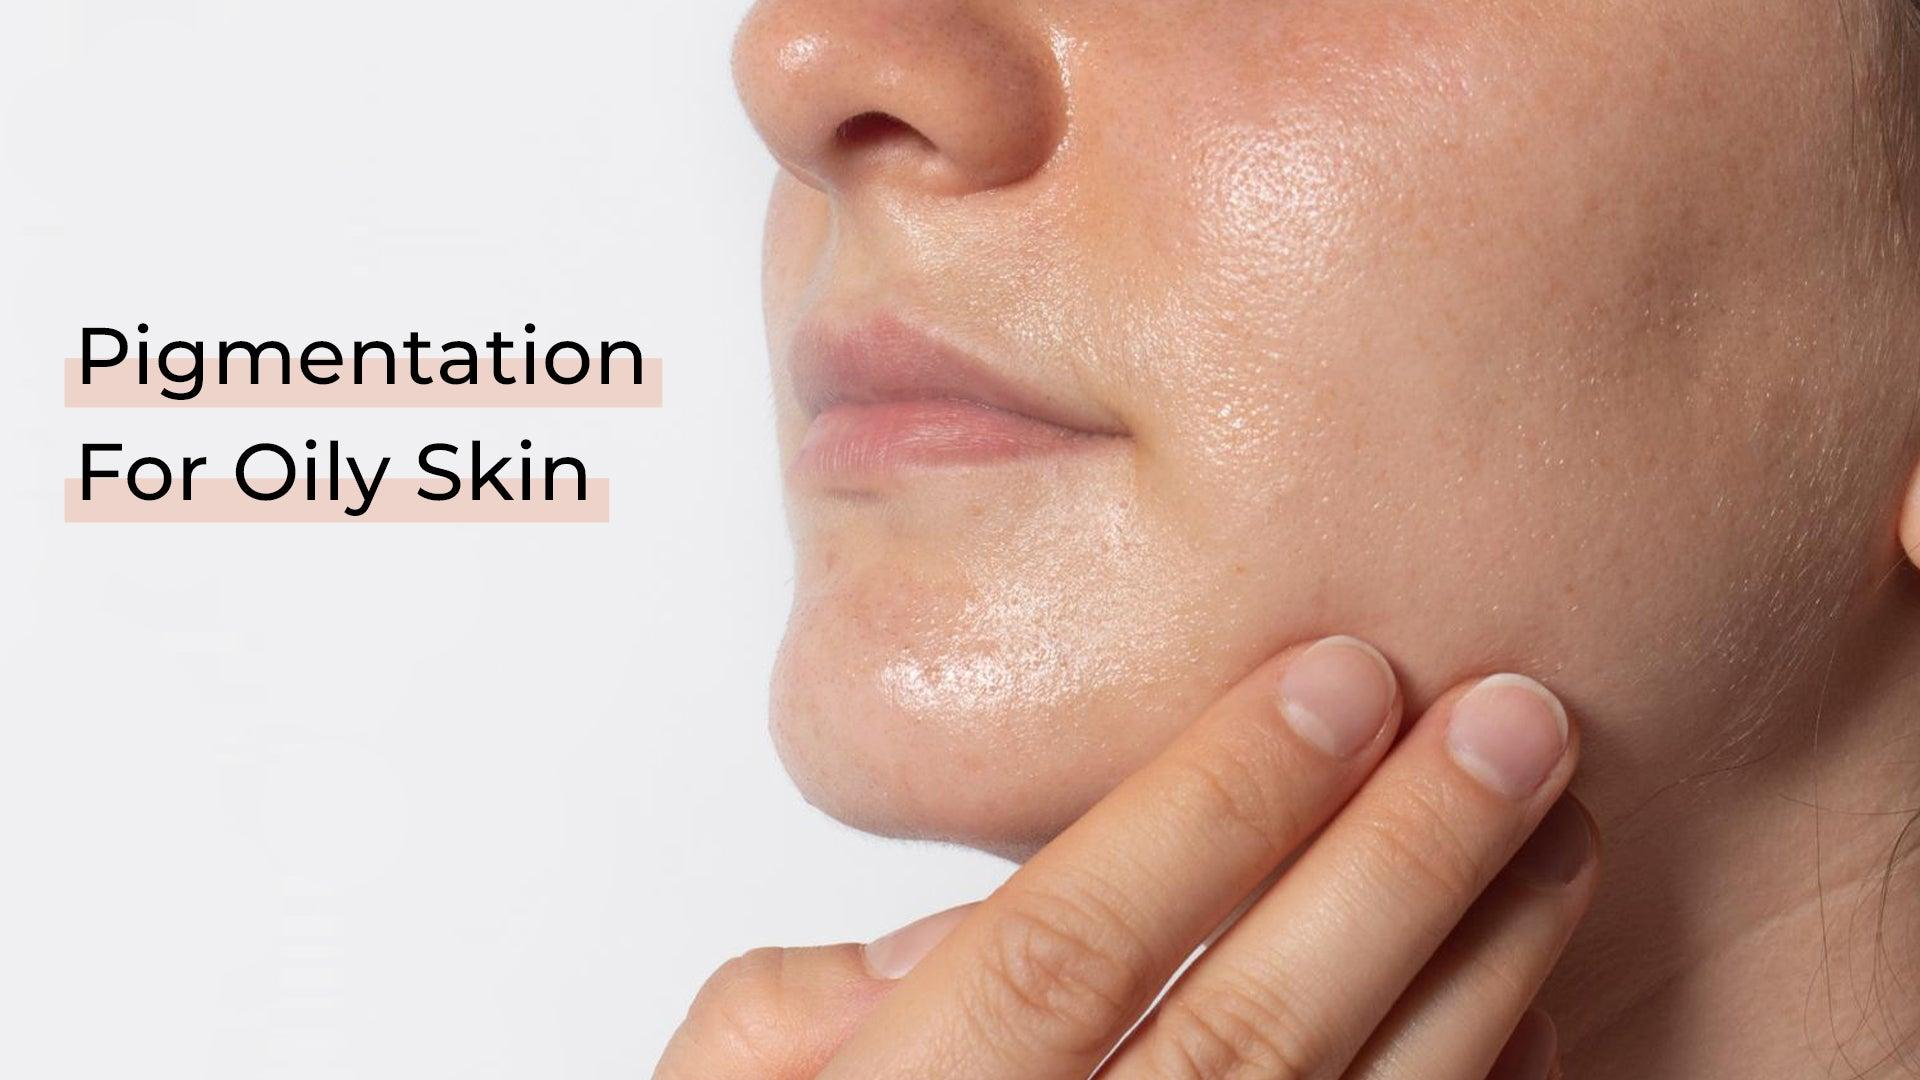Oily-Skin: (1044, 12, 1466, 431), (796, 558, 1390, 679), (800, 514, 1378, 568)
